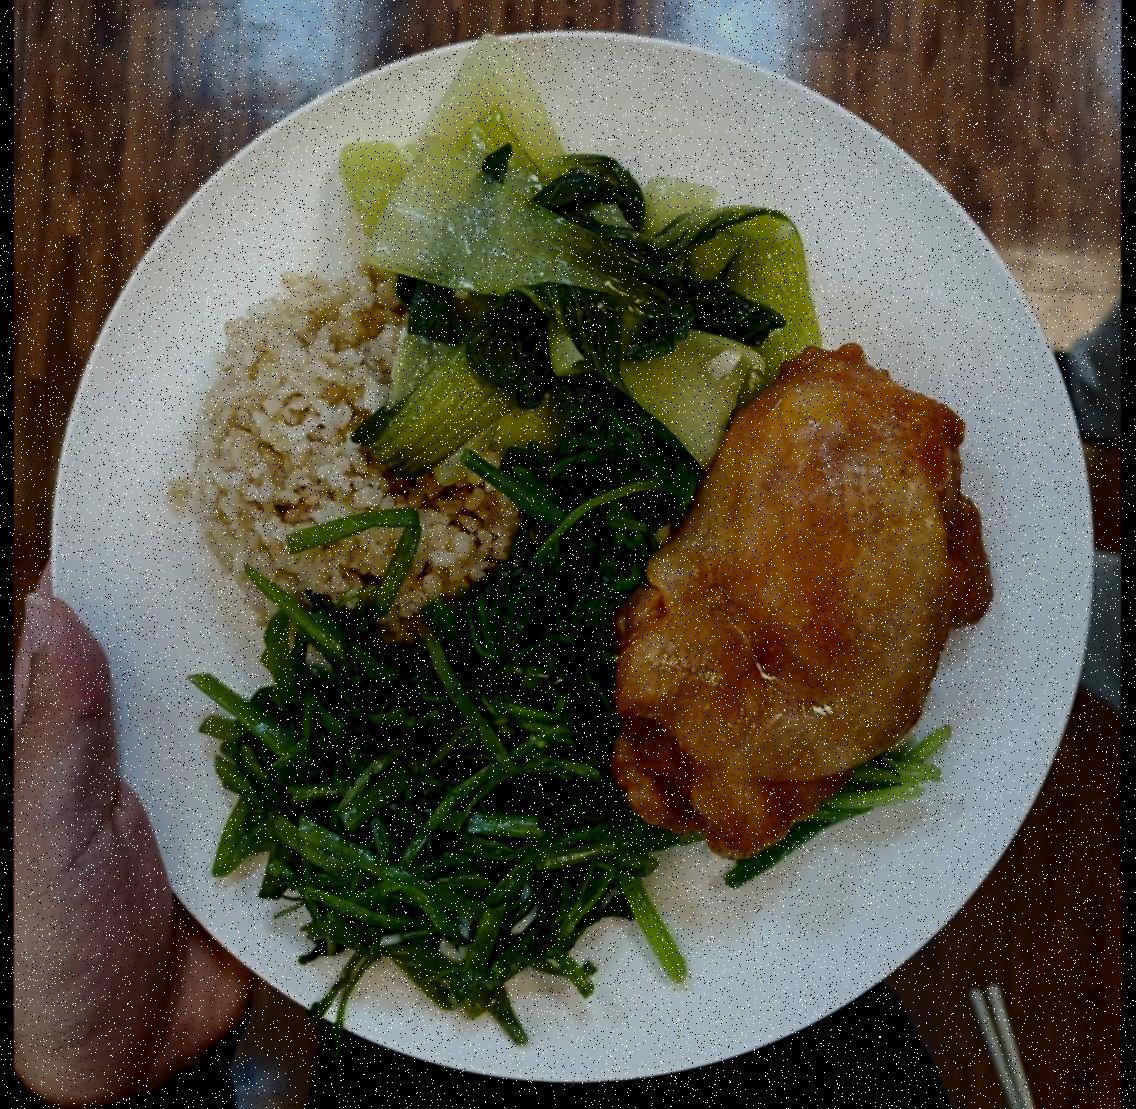big fried chicken leg: (42, 12, 1092, 1106)
box: (172, 264, 520, 637)
braised fish fillet: (204, 479, 655, 1020), (327, 55, 810, 481)
braised pork: (601, 340, 999, 852)
